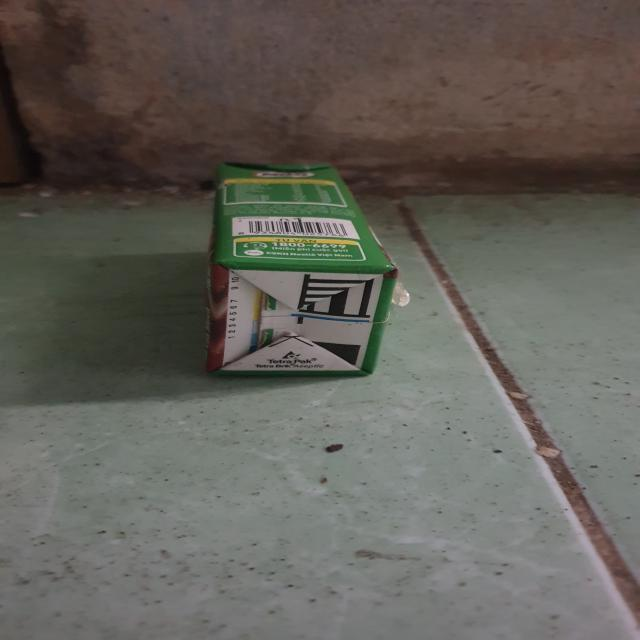Milo: (204, 161, 402, 382)
